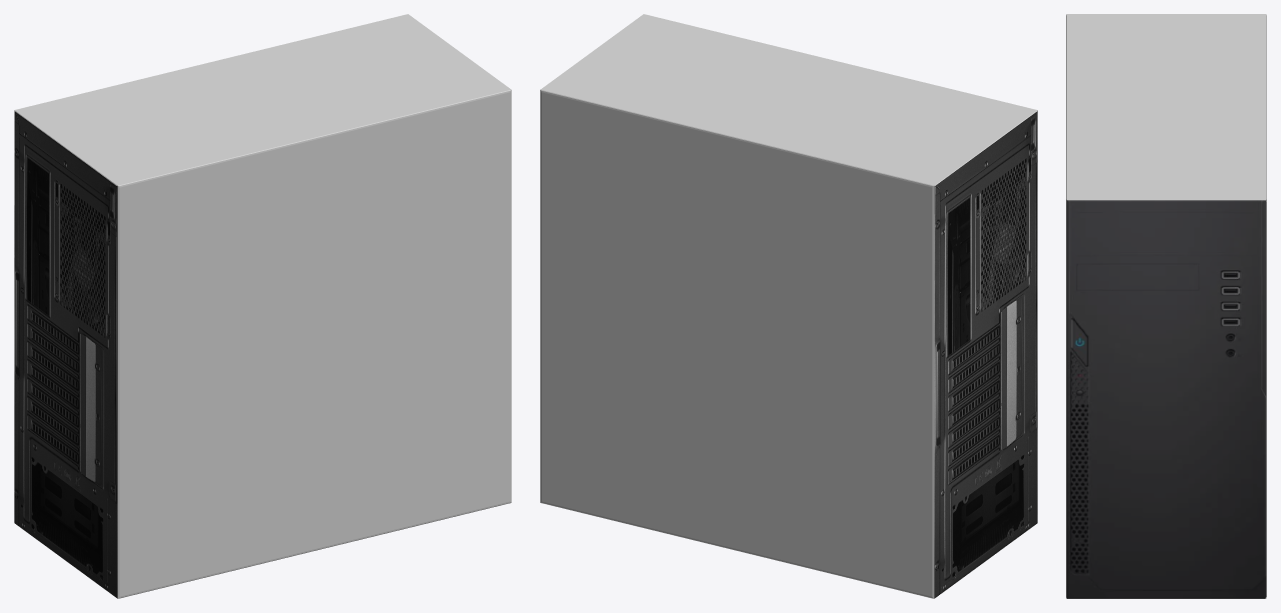
The model's file is Tour PC perso.fbx.
3 renders of one model, left to right at view 1: azimuth 30°, elevation 25°; view 2: azimuth 150°, elevation 25°; view 3: azimuth 270°, elevation 25°, orthographic. The views are drawn at different scales.
Visible parts, largest first — view 1: Cube; view 2: Cube; view 3: Cube.
Boxes of the visible parts, <box> form: Cube: <box>14,14,511,598</box>; Cube: <box>540,14,1037,598</box>; Cube: <box>1066,14,1266,598</box>.
Size of the model in its own units: 200 by 200 by 91.22.
